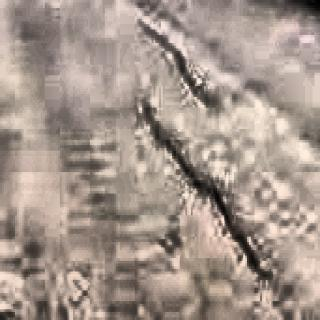crack: (143, 104, 274, 278), (126, 6, 222, 98)
